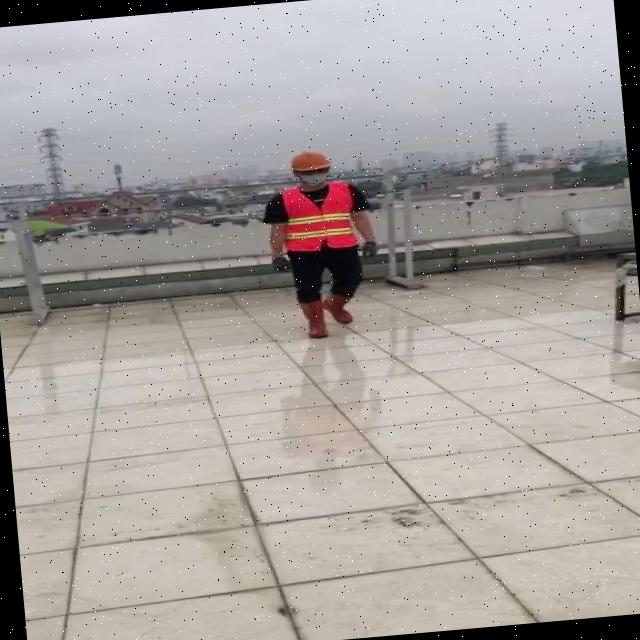boots: (320, 287, 358, 325), (294, 300, 326, 340)
helmet: (288, 146, 334, 173)
vest: (278, 180, 360, 253)
